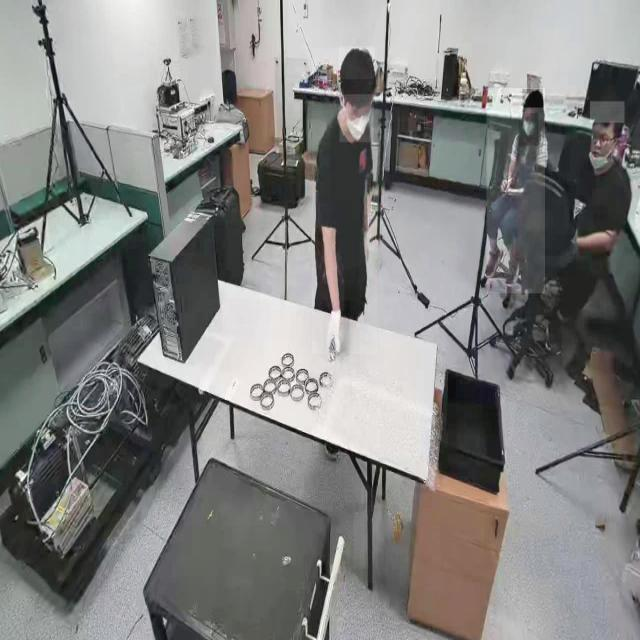face_mask: (339, 94, 374, 142), (518, 113, 538, 146)
face_nomask: (592, 128, 608, 165)
glasses: (590, 129, 612, 150)
hand_glove: (323, 301, 351, 363), (359, 230, 375, 266)
head_nohelmet: (339, 46, 375, 80), (590, 102, 625, 124), (522, 89, 544, 108)
person: (312, 48, 378, 355), (486, 88, 546, 294)
